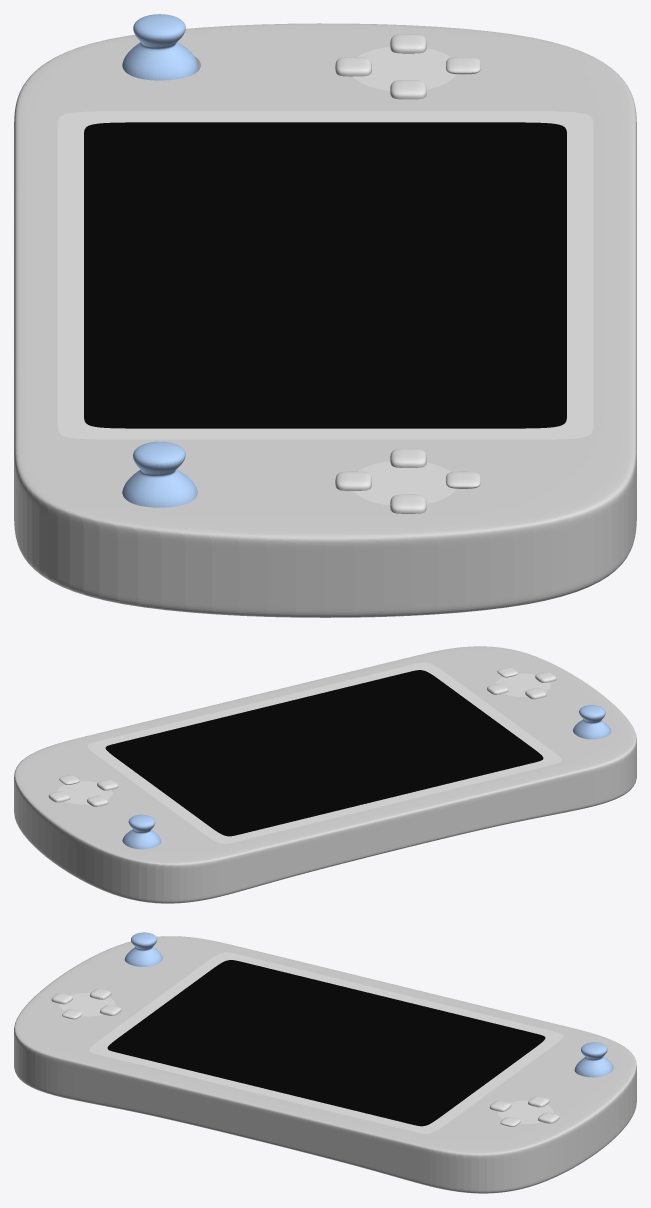
Rendered from gameconsole.fbx.
3 views of the same model, one above another, from view 1: azimuth 30°, elevation 25°; view 2: azimuth 150°, elevation 25°; view 3: azimuth 270°, elevation 25° (orthographic). The views are drawn at different scales.
Visible parts, largest first — view 1: Console, GameScreen, GameScreenTrim, Analog, ButtonTrim2, ButtonTrim, Buttons2, Buttons; view 2: Console, GameScreen, GameScreenTrim, Analog, ButtonTrim, ButtonTrim2, Buttons, Buttons2; view 3: Console, GameScreen, GameScreenTrim, Analog, ButtonTrim2, ButtonTrim, Buttons, Buttons2.
Boxes of the visible parts, x1,y1,x2,y2 form: Console: [14, 23, 636, 617]; GameScreen: [84, 122, 566, 428]; GameScreenTrim: [57, 111, 593, 439]; Analog: [122, 14, 198, 507]; ButtonTrim2: [353, 461, 455, 505]; ButtonTrim: [353, 47, 455, 90]; Buttons2: [335, 448, 480, 513]; Buttons: [335, 34, 480, 99]; Console: [14, 646, 636, 903]; GameScreen: [105, 670, 543, 836]; GameScreenTrim: [87, 662, 561, 843]; Analog: [122, 705, 611, 849]; ButtonTrim: [57, 781, 112, 804]; ButtonTrim2: [495, 673, 550, 696]; Buttons: [48, 775, 118, 806]; Buttons2: [487, 667, 556, 699]; Console: [14, 936, 636, 1193]; GameScreen: [107, 960, 545, 1126]; GameScreenTrim: [89, 952, 563, 1133]; Analog: [124, 932, 613, 1077]; ButtonTrim2: [59, 993, 115, 1016]; ButtonTrim: [498, 1100, 553, 1123]; Buttons: [489, 1096, 559, 1126]; Buttons2: [51, 988, 121, 1019].
Size of the model in its own units: 18.51 by 2.64 by 22.25.
